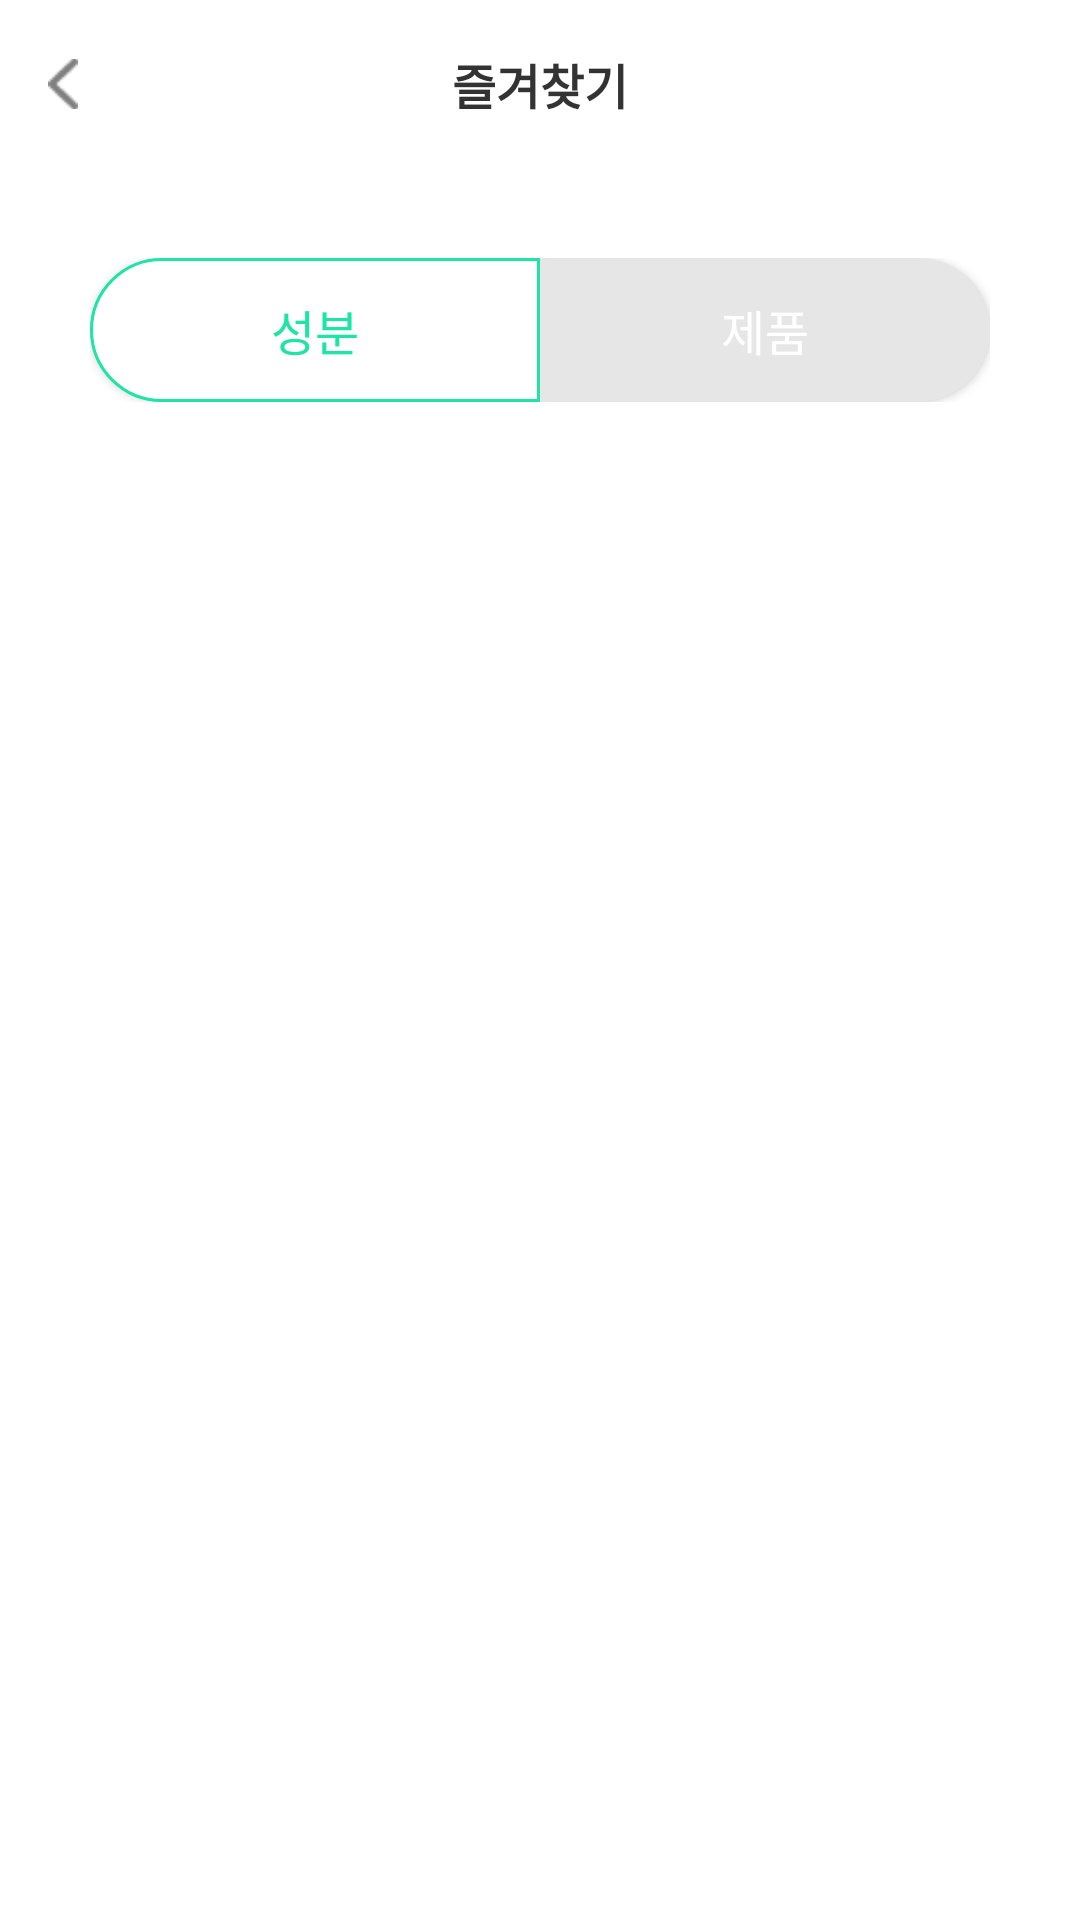

Named icons in this screenshot (1080×1920) and their bounding boxes, bbox(x1, y1, x2, y2):
camera result back: bbox(48, 59, 78, 109)
